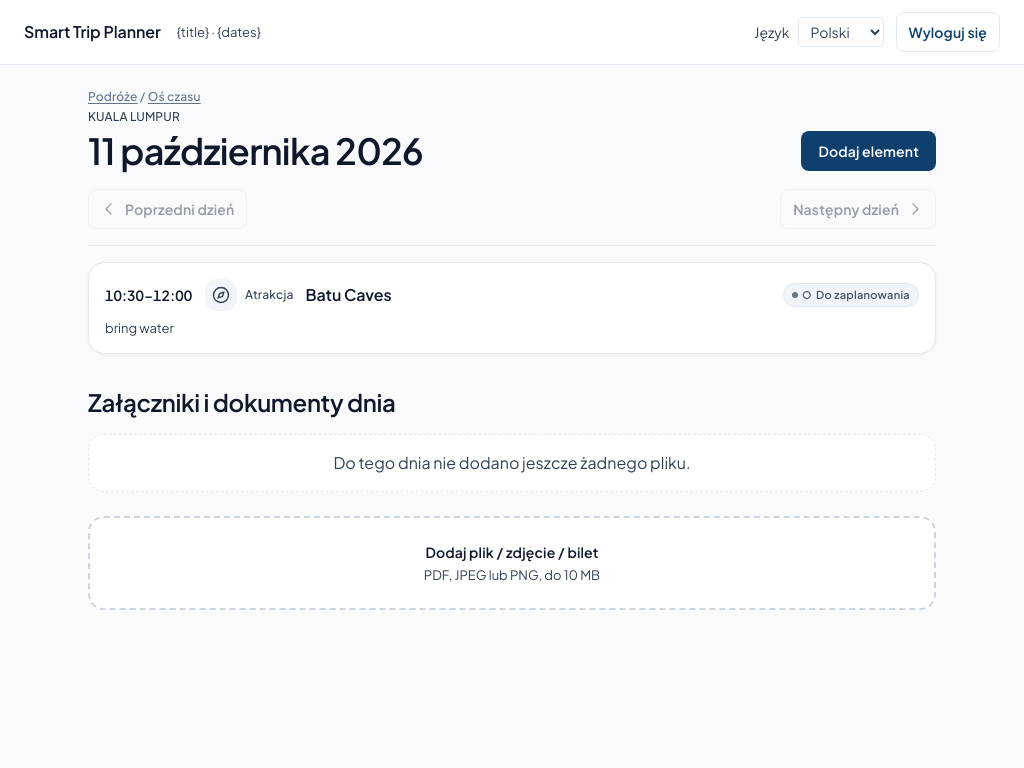
it: the reservation panel wired into the real item editor › defaults the currency field to PLN on an existing item with no cost yet
The image size is (1024, 768).
Expected: the text "Batu Caves" is shown, [306,284,392,305]
Click the button "Batu Caves" at point(149, 295), box [88,262,936,354]
(page scrolled)
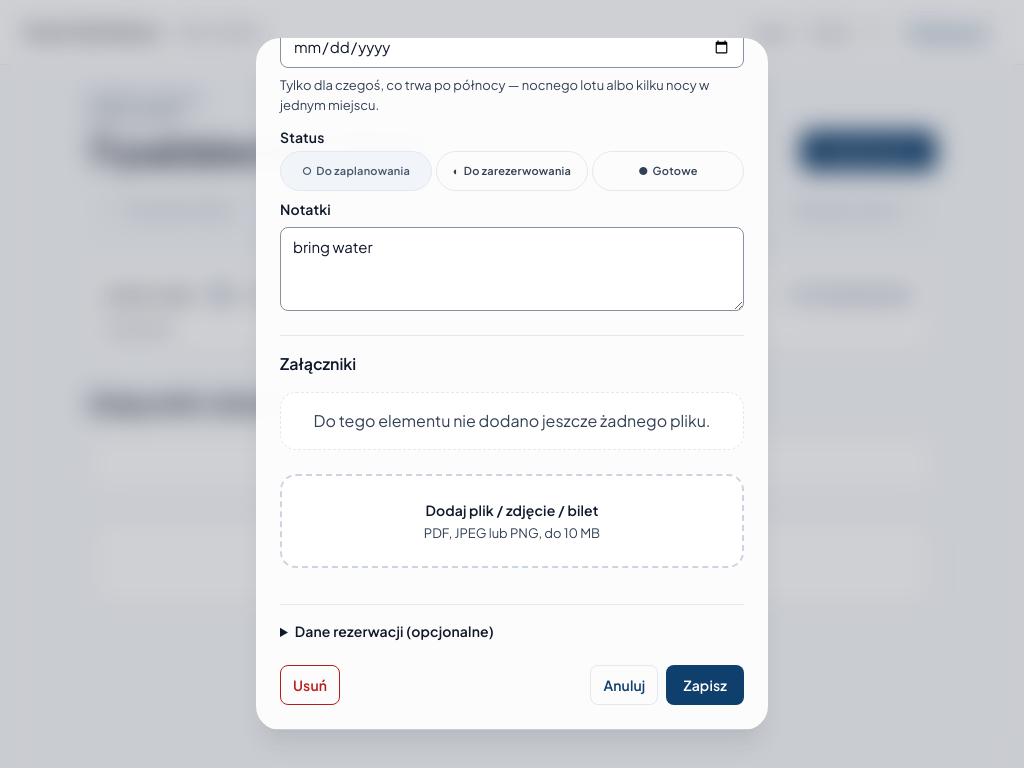
Click the heading "Dane rezerwacji (opcjonalne)" at point(394, 631), box [295,622,494,640]
(page scrolled)
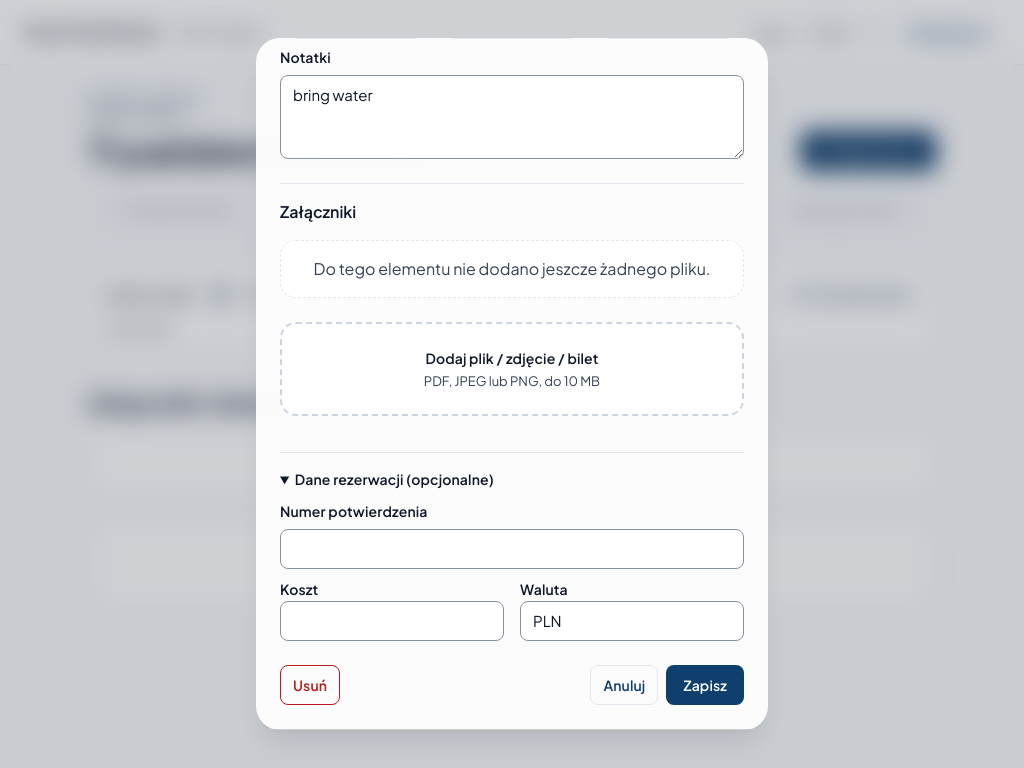
Now the field labelled "Waluta" holds "PLN", box [520,601,744,641]
